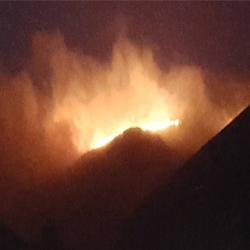fire: (142, 114, 176, 132), (91, 129, 112, 149)
